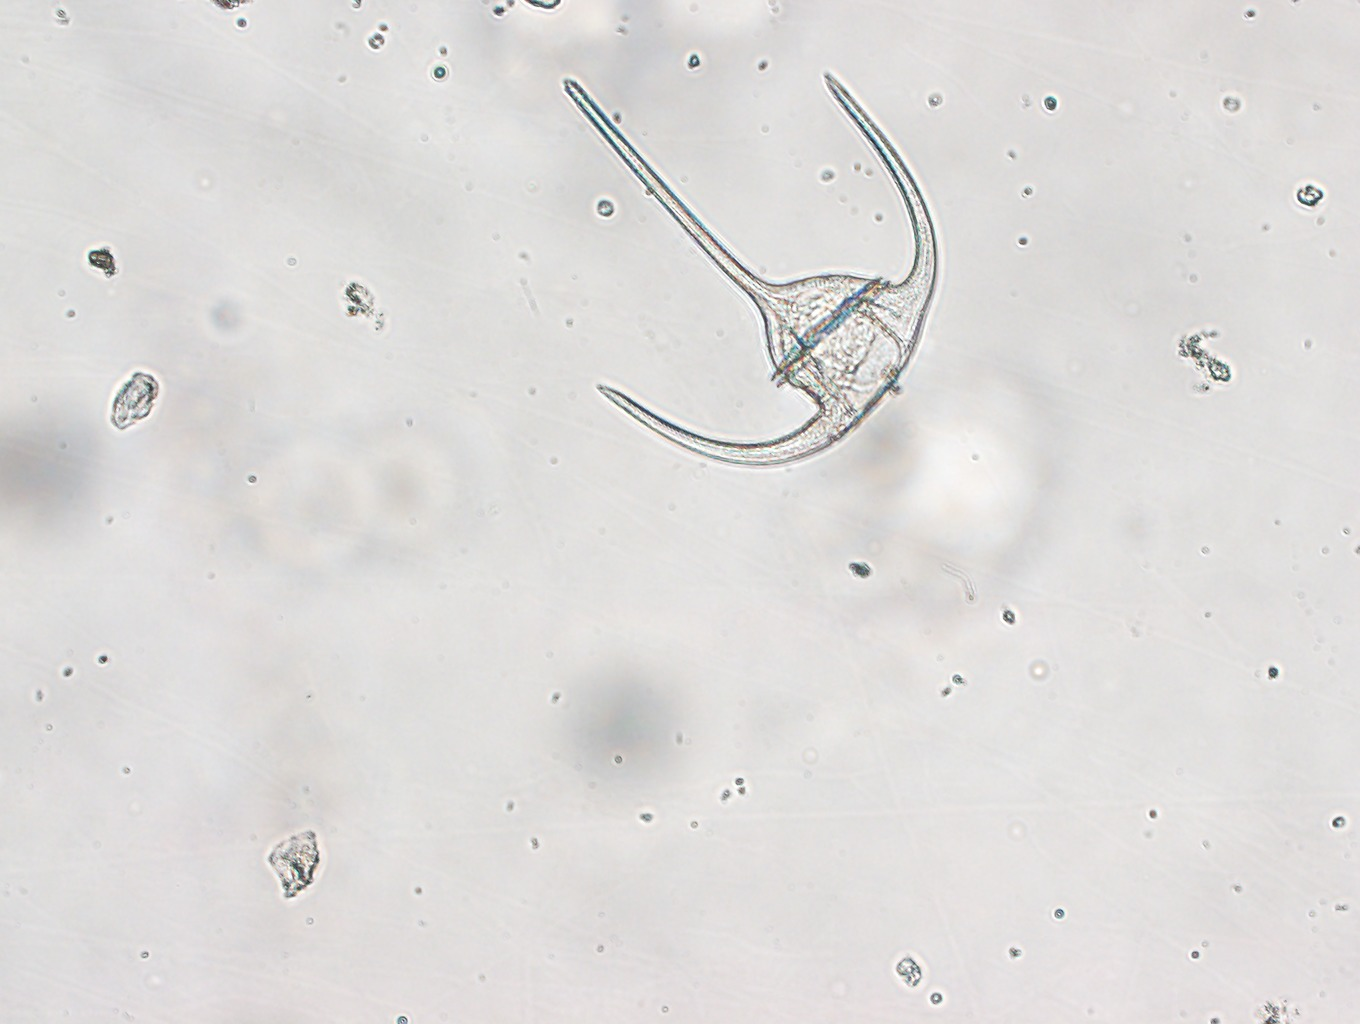ceratium tripos: (549, 62, 942, 474)
